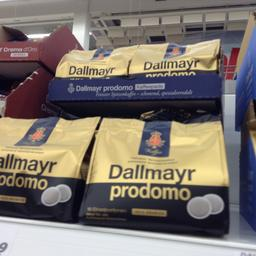coffee: (76, 114, 228, 232), (0, 116, 98, 220), (126, 42, 220, 76), (54, 44, 132, 78)
